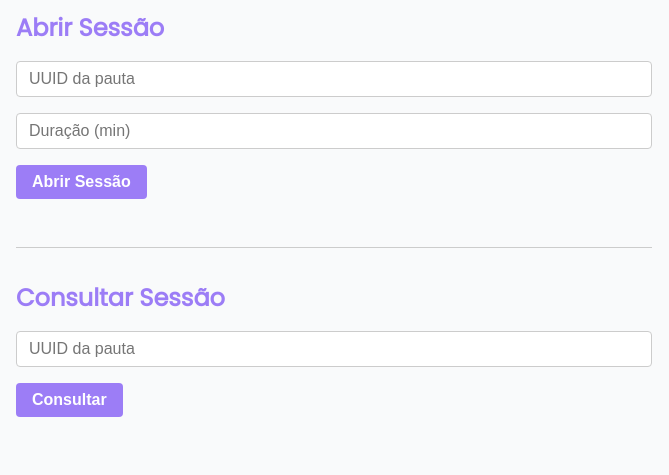
Scenario: OpenVotingSession › exibe mensagem de sucesso ao abrir sessão
Type "123e4567-e89b-12d3-a456-426614174000" into the 1st field with placeholder "UUID da pauta". click: (334, 79)
box: [16,61,652,97]
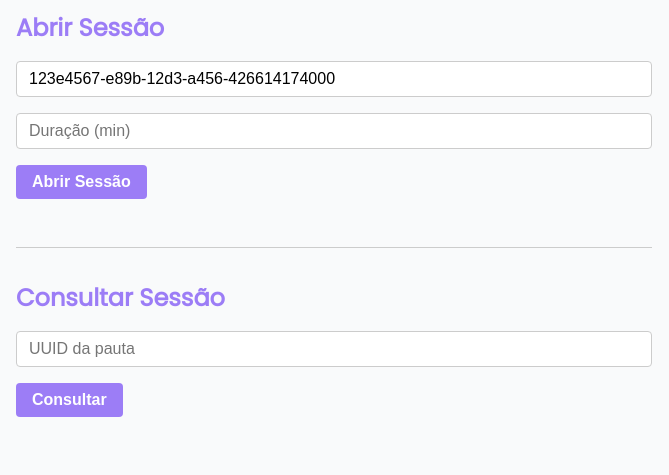
Type "30" into the field with placeholder "Duração (min)". click: (334, 131)
box: [16,113,652,149]
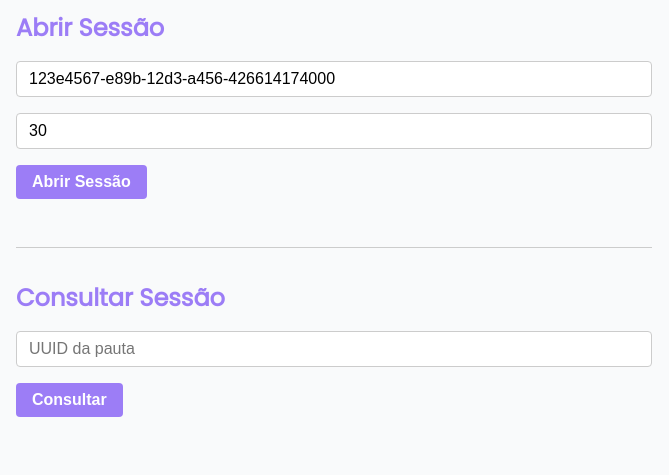
Click the button "Abrir Sessão". click: (81, 182)
box: [16,165,147,199]
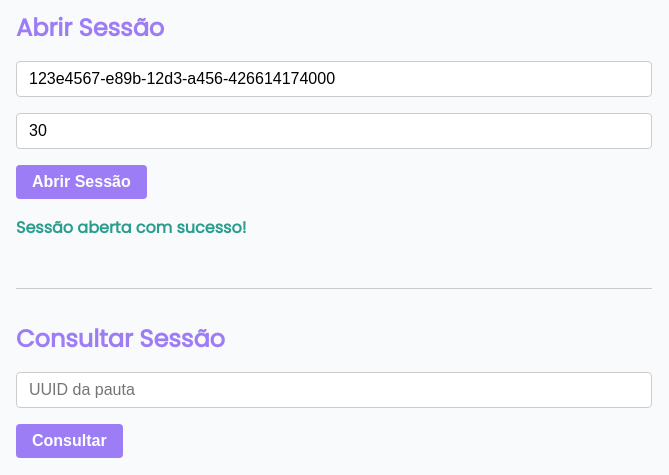
Now the text "Sessão aberta com sucesso!" is shown, box [16,216,246,239]
